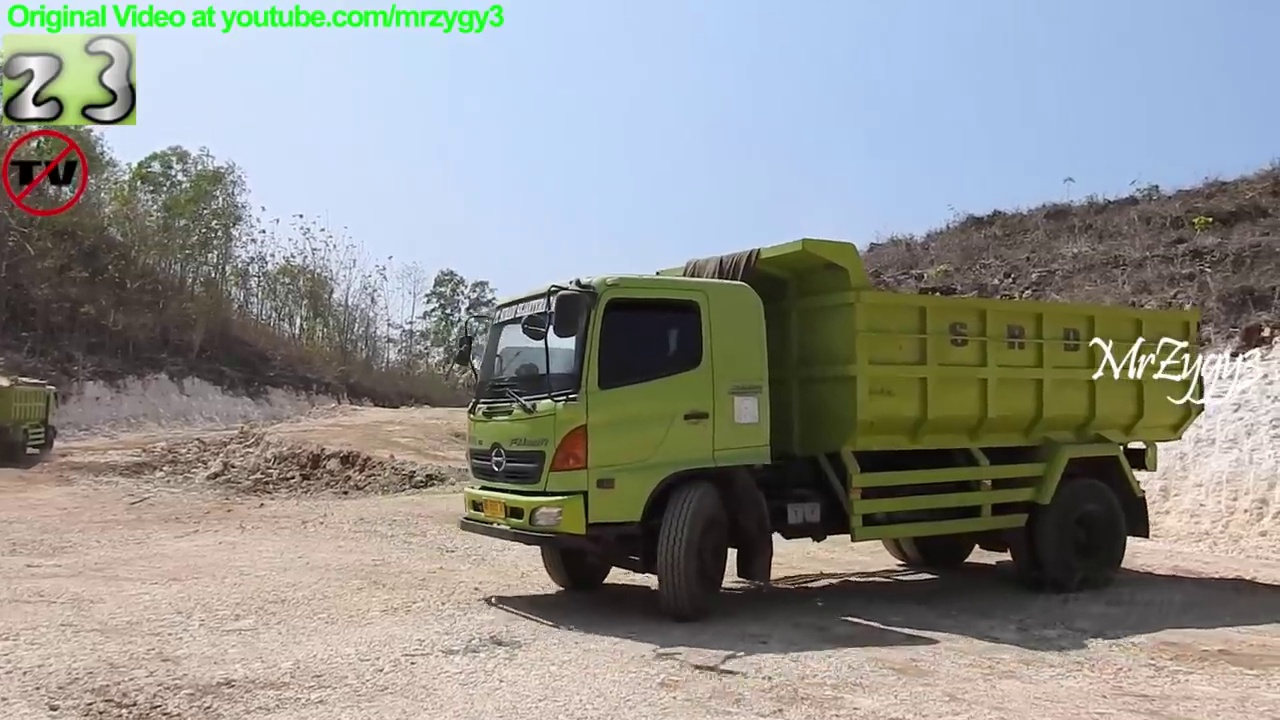truck: (444, 231, 1212, 627), (1, 372, 65, 471)
